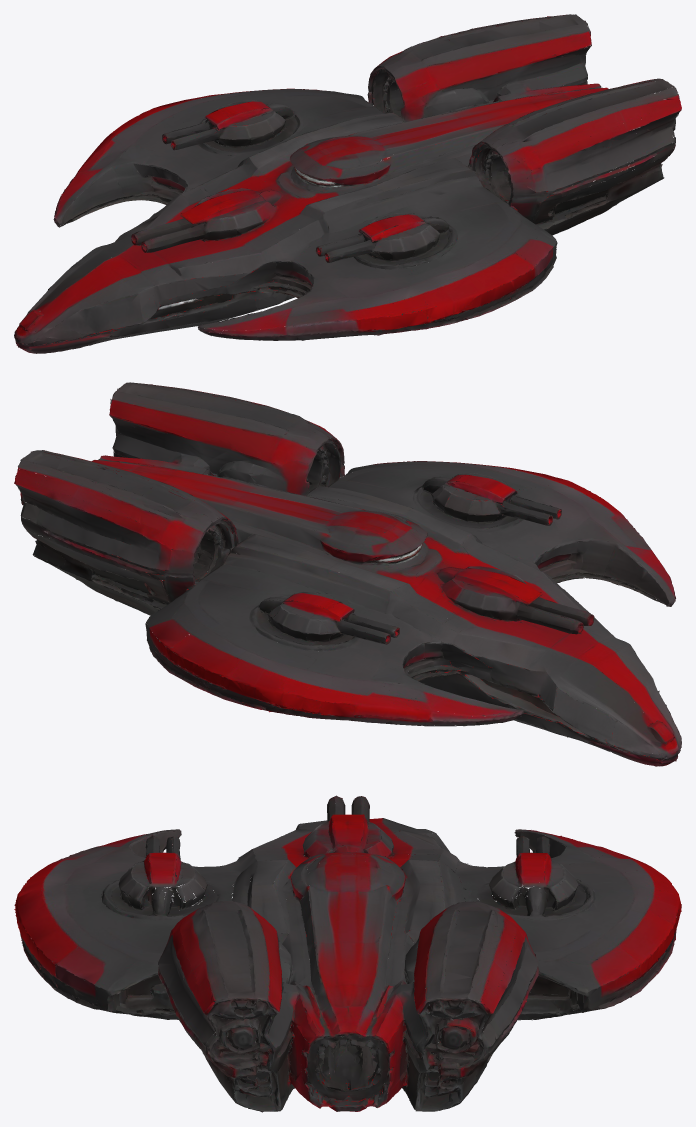
The model's file is bizon.glb.
3 views of the same model, one above another, from view 1: azimuth 30°, elevation 25°; view 2: azimuth 150°, elevation 25°; view 3: azimuth 270°, elevation 25° (orthographic). The views are drawn at different scales.
Parts seen in each view (by area): view 1: Mesh_0; view 2: Mesh_0; view 3: Mesh_0.
Boxes of the visible parts, left/top/right/bottom form: Mesh_0: left=14, top=14, right=681, bottom=353; Mesh_0: left=14, top=382, right=681, bottom=766; Mesh_0: left=14, top=795, right=681, bottom=1112.
Bounding box in the file's own units: 0.9969 × 0.2814 × 0.8097.
1 material, 1 textured.
